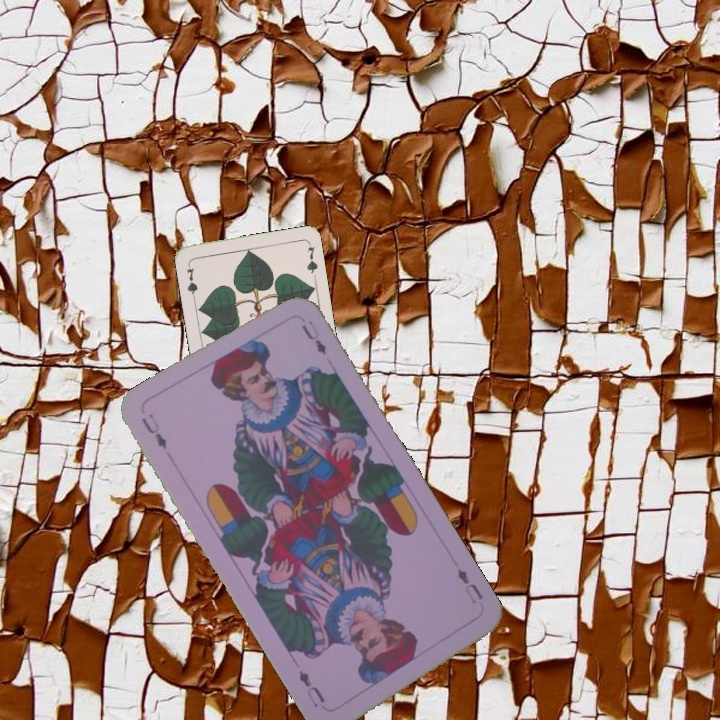EU: (137, 409, 170, 453), (453, 564, 485, 607)
G7: (182, 259, 200, 299)
